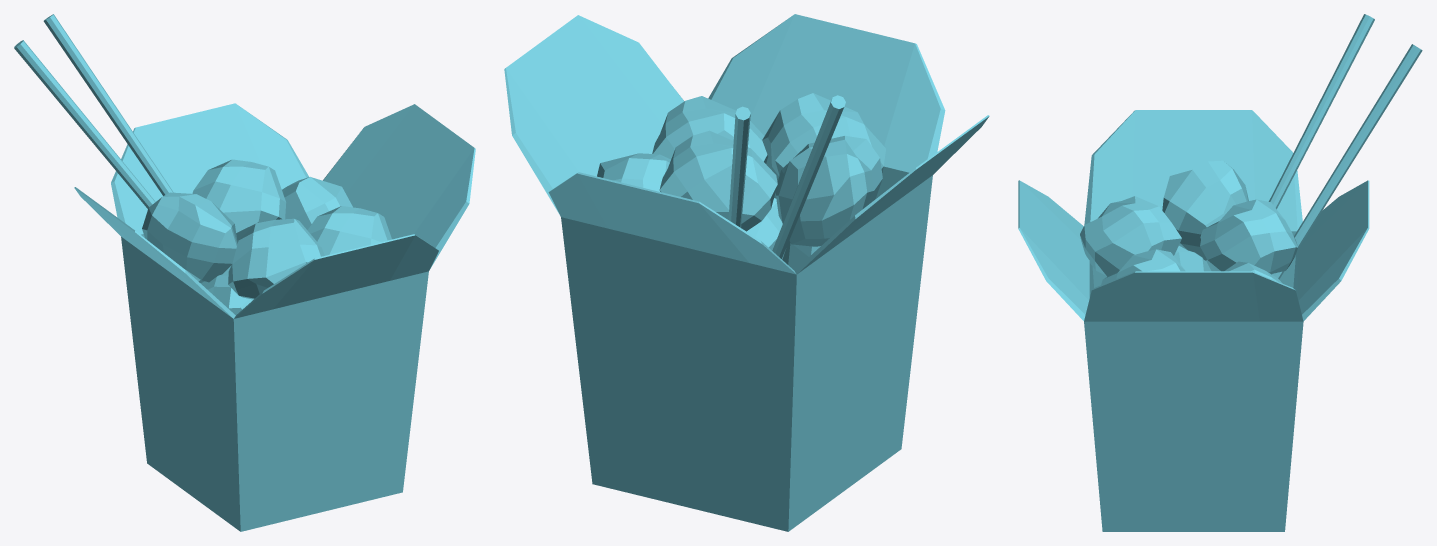
The model's file is Chinese_Takeout_Hologram.fbx.
The picture shows the model from 3 angles, left to right: view 1: azimuth 30°, elevation 25°; view 2: azimuth 150°, elevation 25°; view 3: azimuth 270°, elevation 25°; orthographic projection. The views are drawn at different scales.
Parts seen in each view (by area): view 1: Asian_Food_Box; view 2: Asian_Food_Box; view 3: Asian_Food_Box.
Boxes of the visible parts, box(x1,y1,x2,y2) form: Asian_Food_Box: box(14, 14, 475, 531); Asian_Food_Box: box(504, 14, 989, 531); Asian_Food_Box: box(1018, 14, 1422, 531).
Bounding box in the file's own units: 98.37 × 113 × 104.
